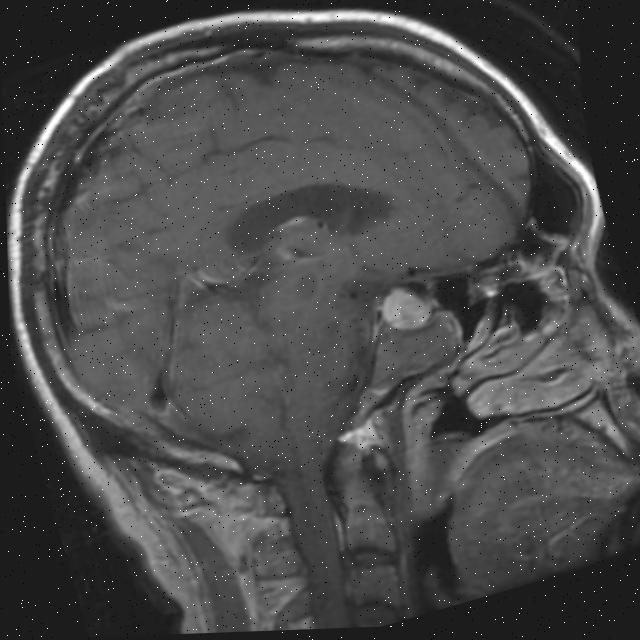Pituitary: (374, 276, 437, 337)
